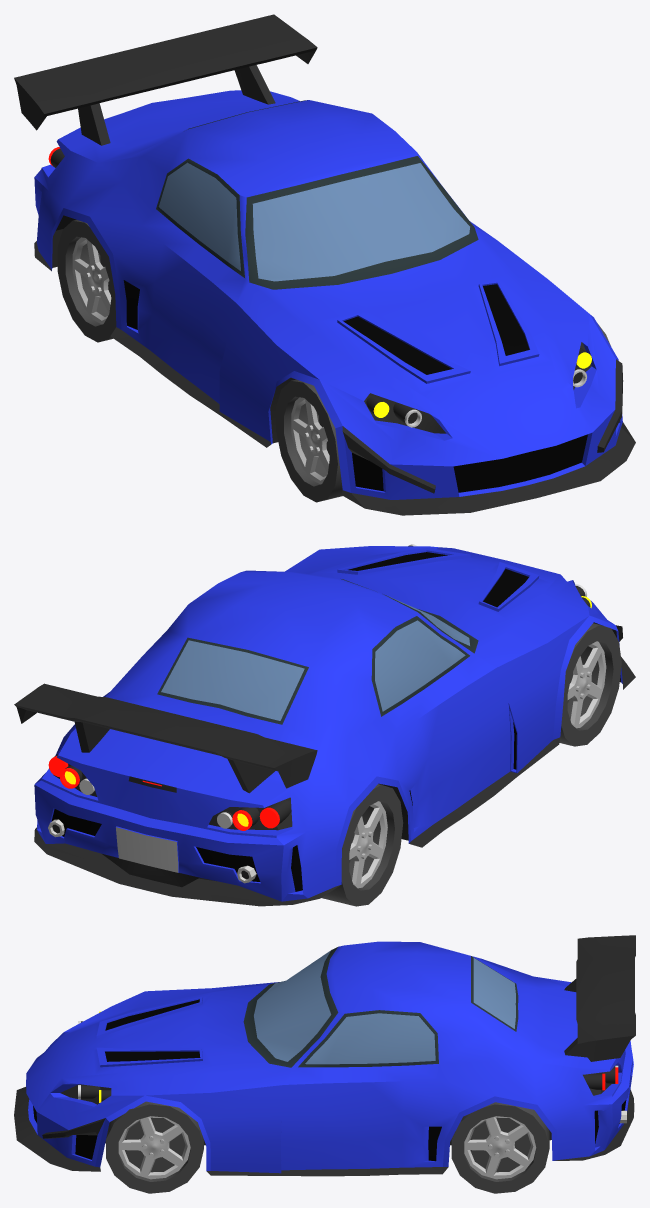
The model's file is honda.fbx.
3 views of the same model, one above another, from view 1: azimuth 30°, elevation 25°; view 2: azimuth 150°, elevation 25°; view 3: azimuth 270°, elevation 25° (orthographic). The views are drawn at different scales.
Visible parts, largest first — view 1: car_honda, wheel_fr_honda, wheel_br_honda; view 2: car_honda, wheel_br_honda, wheel_fr_honda; view 3: car_honda, wheel_bl_honda, wheel_fl_honda.
Part boxes in pixels (left/top/right/bottom): car_honda: left=14, top=14, right=635, bottom=515; wheel_fr_honda: left=276, top=379, right=342, bottom=502; wheel_br_honda: left=57, top=220, right=116, bottom=342; car_honda: left=14, top=544, right=635, bottom=906; wheel_br_honda: left=322, top=784, right=403, bottom=906; wheel_fr_honda: left=559, top=623, right=621, bottom=746; car_honda: left=14, top=935, right=635, bottom=1176; wheel_bl_honda: left=451, top=1102, right=549, bottom=1193; wheel_fl_honda: left=106, top=1101, right=203, bottom=1193.
Size of the model in its own units: 209 by 139 by 457.
